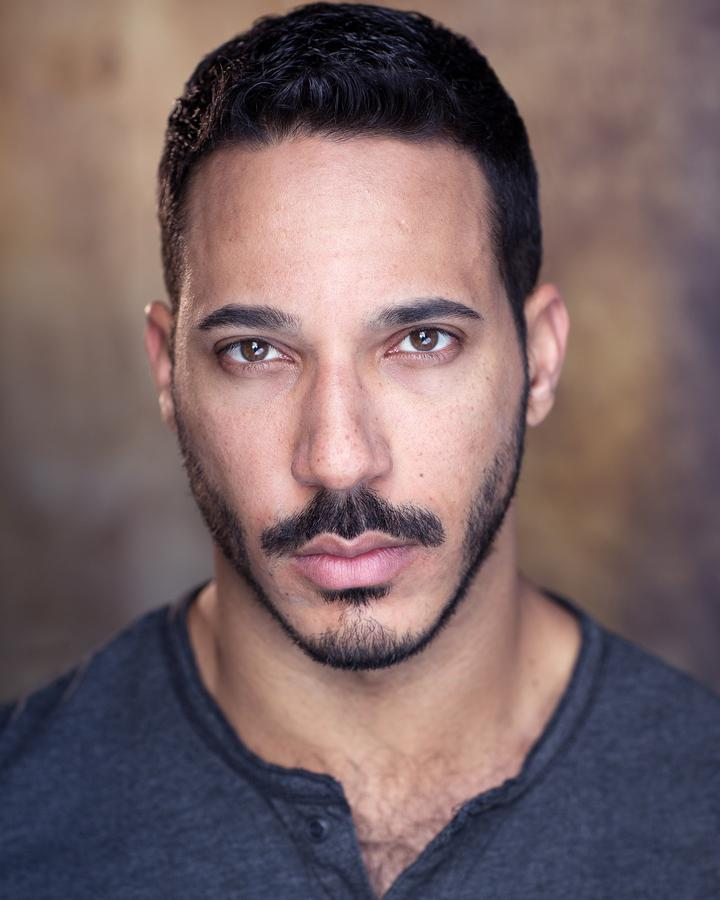Sober: (187, 150, 513, 603)
